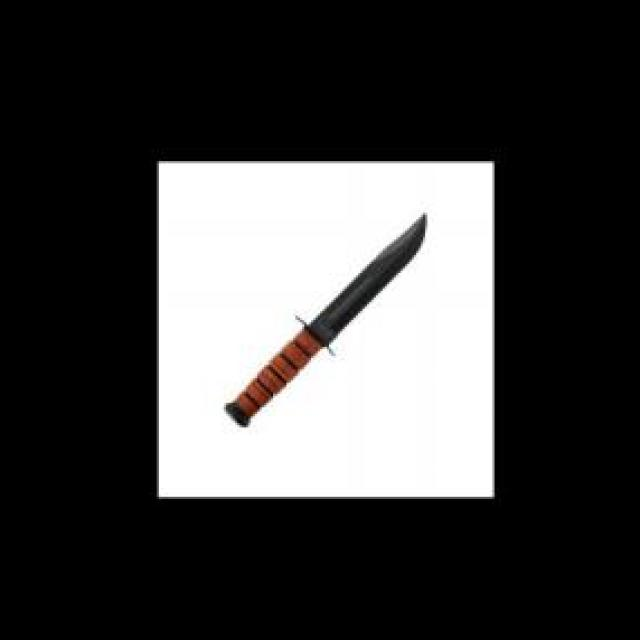knife: (224, 215, 432, 425)
